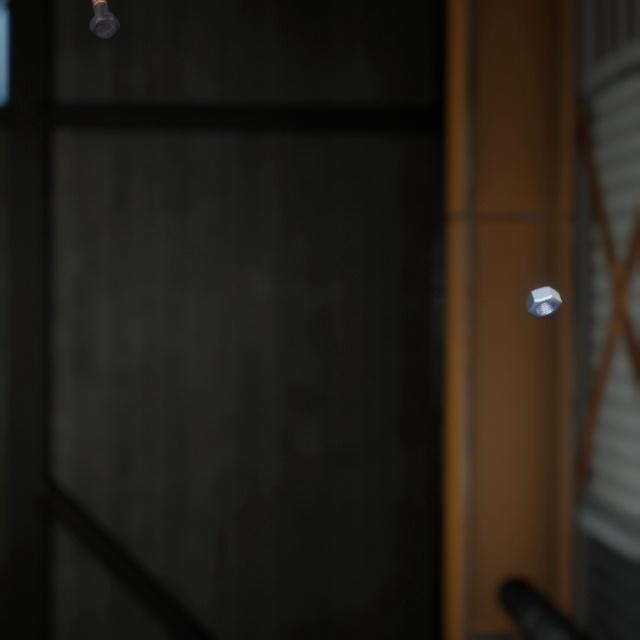bolt: (84, 0, 124, 36)
nut: (519, 264, 566, 305)
